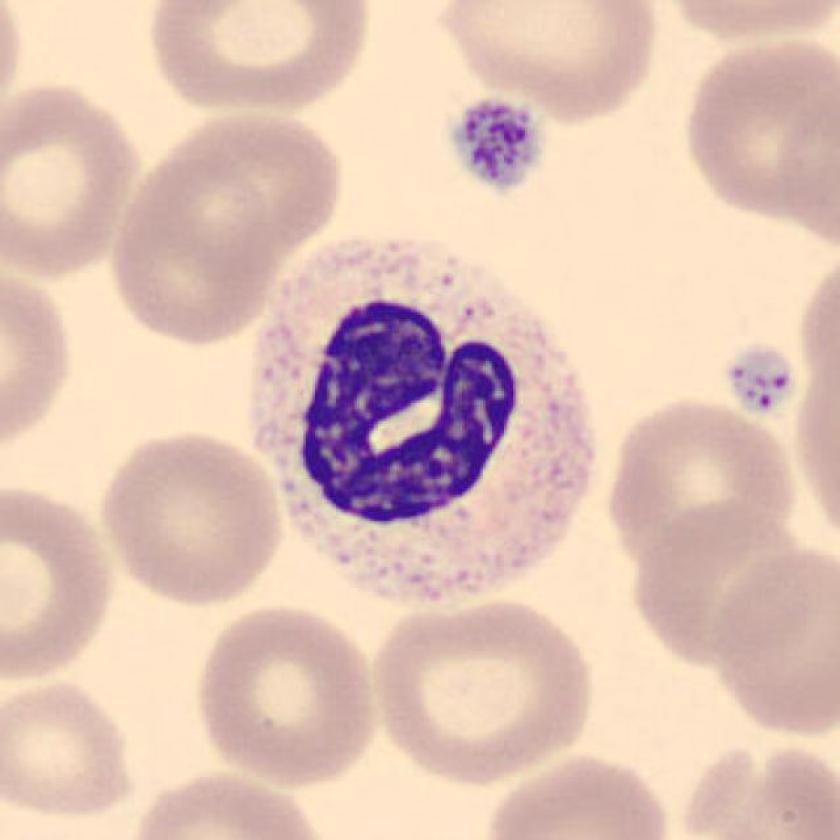neutrophil: (258, 237, 596, 605)
